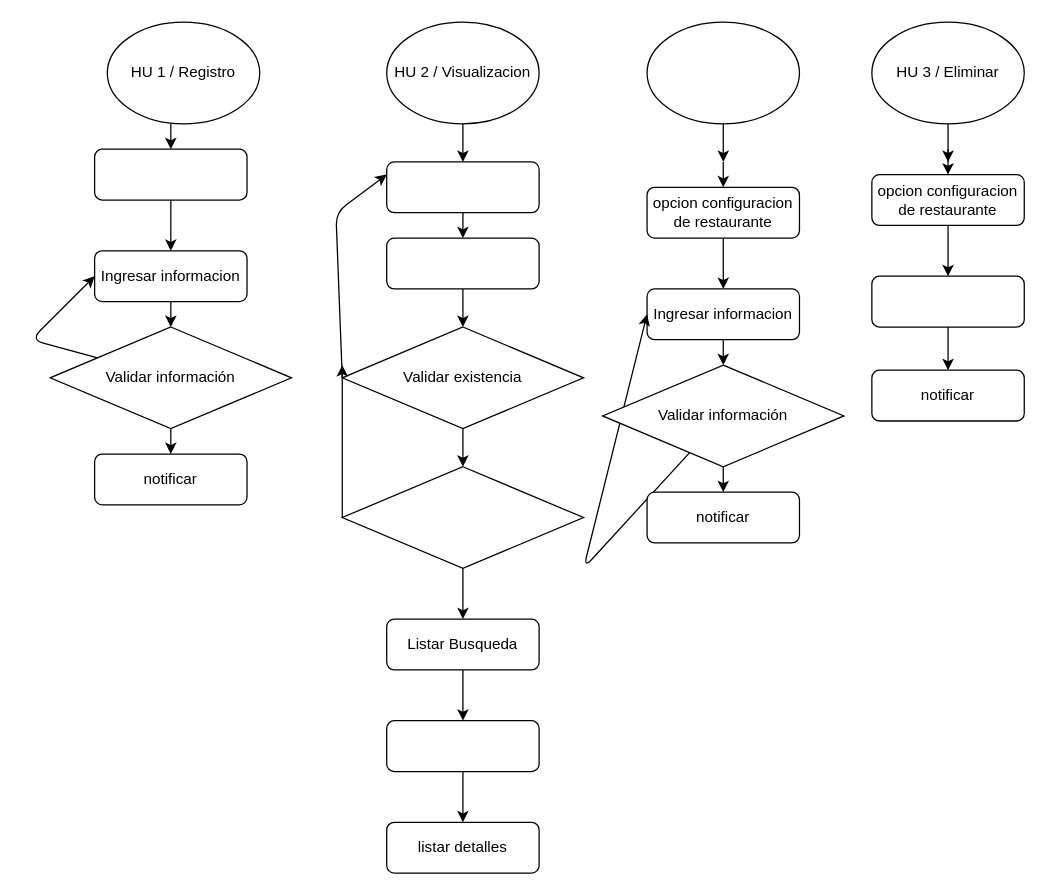
The diagram is 1046 pixels wide and 895 high, and some of its shapes have lost their labels. The centre of each missing label's shape, as x and y in pixels:
"Buscar" belongs at (x=462, y=187).
"HU 3 / Actualizacion" belongs at (x=722, y=72).
"opcion eliminar restaurante" belongs at (x=947, y=301).
"Opción Registro restaurante" belongs at (x=170, y=174).
"seleccionar 1 opcion" belongs at (x=462, y=745).
"Seleccionar filtro" belongs at (x=462, y=263).
"Validar filtro" belongs at (x=462, y=516).
